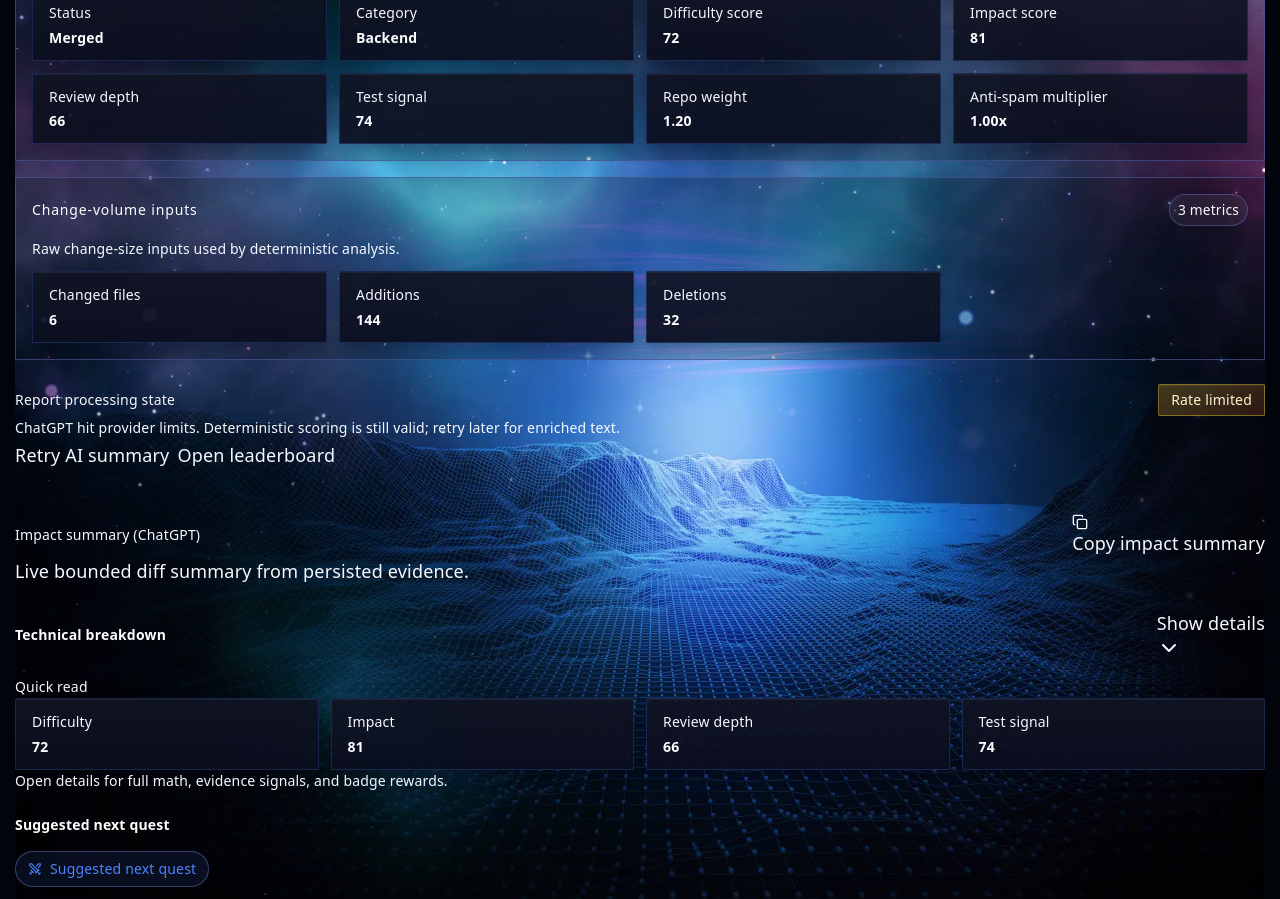
pr report ai retry action › shows retry action for rate-limited reports and executes pull-request sync
The image size is (1280, 899).
(page scrolled)
Click the button "Retry AI summary": [92, 455] box 15,440 -> 169,470
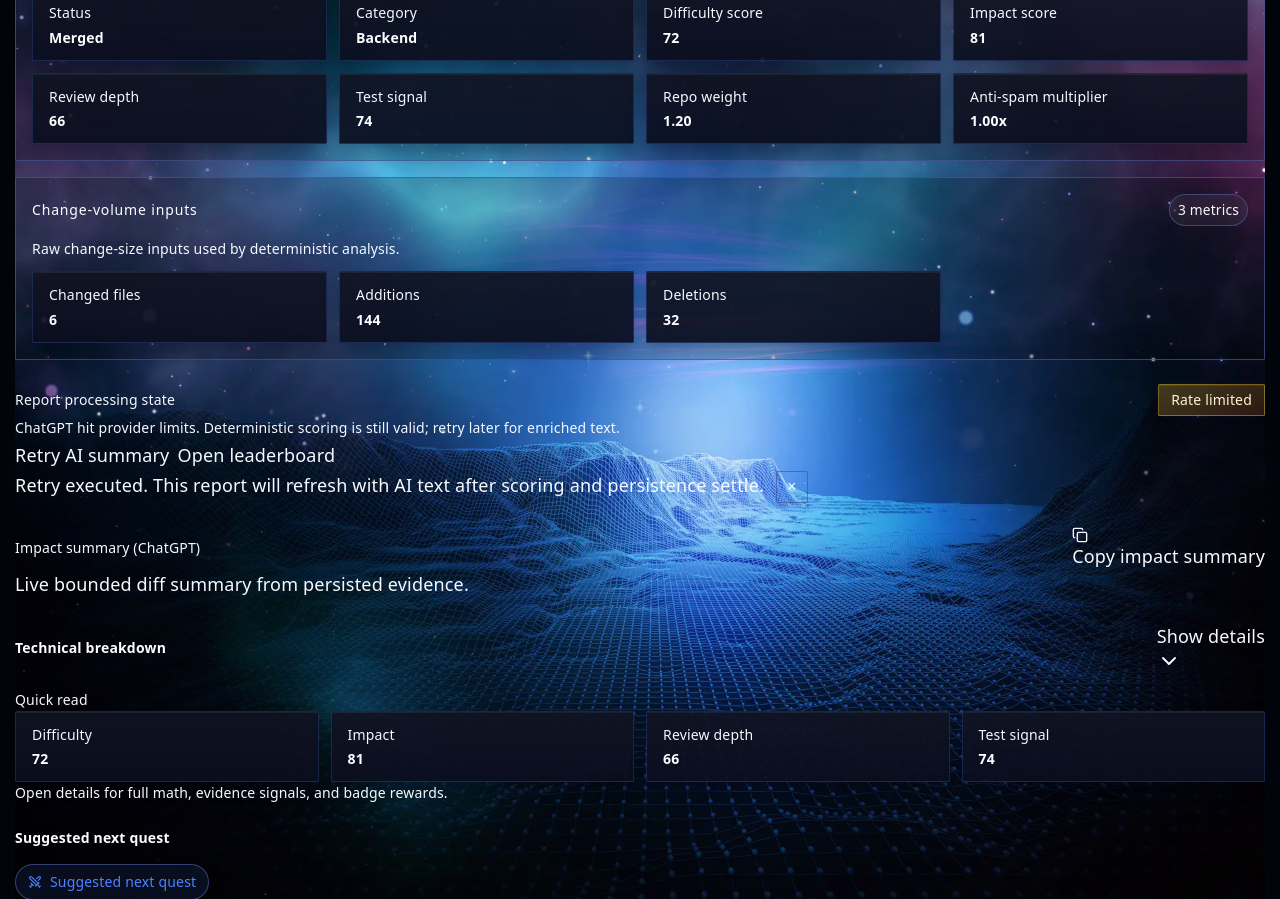
Now the text "Retry executed." is shown, box 15,473 -> 764,497
